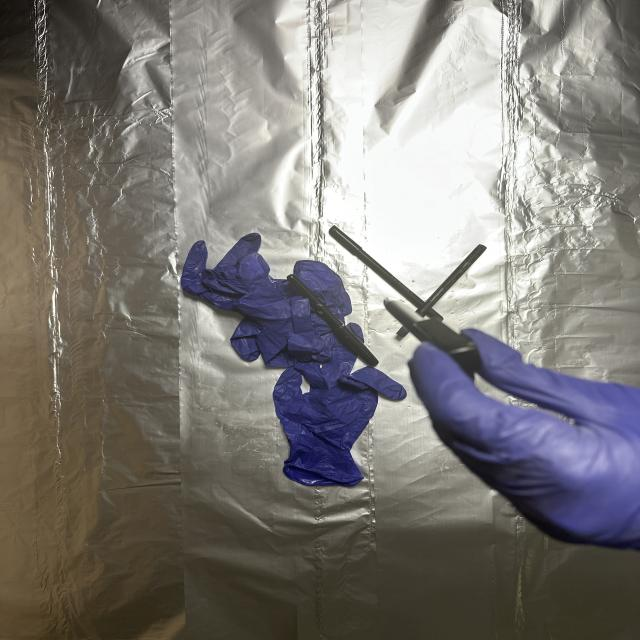gloves_contaminated: (409, 329, 640, 549)
